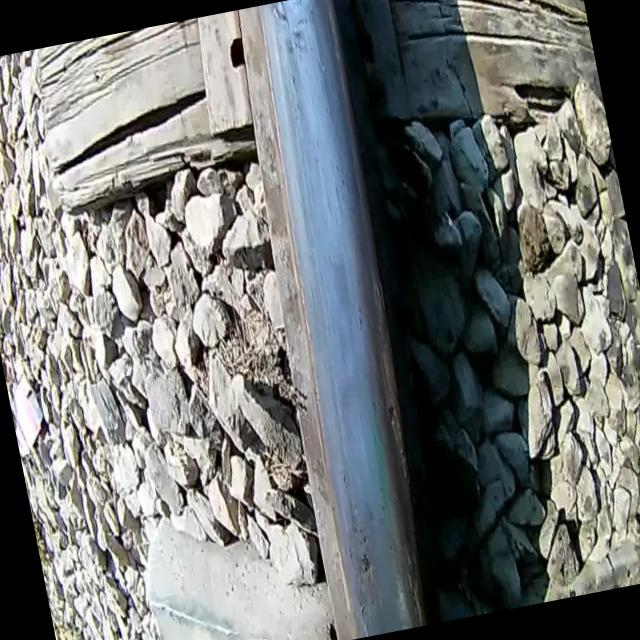Squats: (328, 490, 417, 639), (261, 0, 337, 65)
